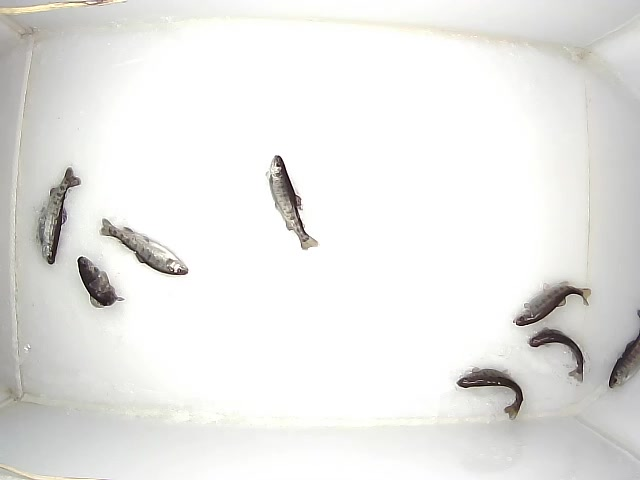fish: (265, 155, 321, 251), (99, 218, 188, 275), (38, 167, 81, 265), (456, 367, 523, 420), (513, 281, 591, 326), (528, 327, 584, 383), (77, 256, 125, 308), (609, 309, 640, 388)
